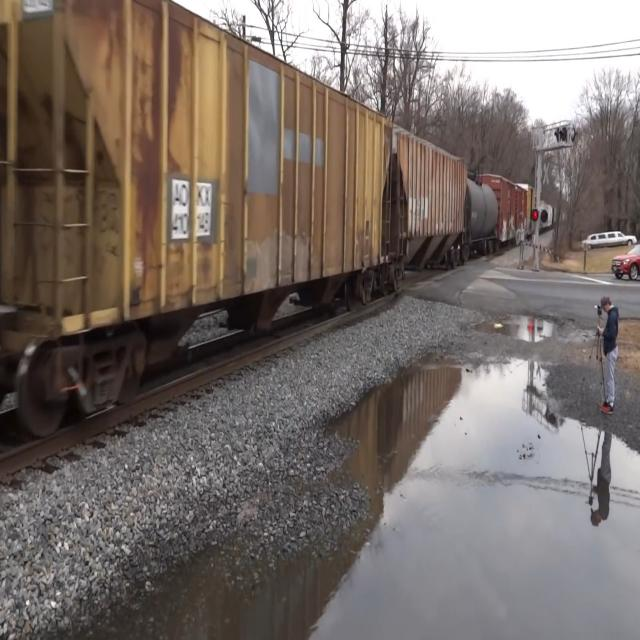hopper: (2, 0, 396, 435), (394, 105, 466, 285)
tank: (468, 173, 504, 258)
